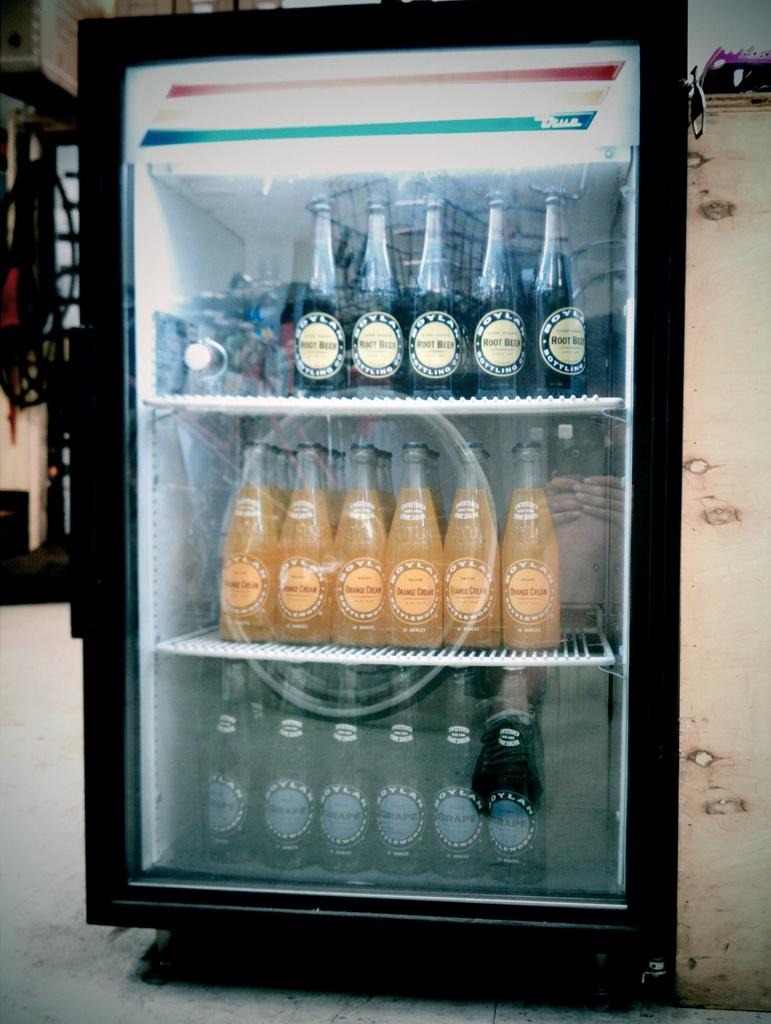handle: (65, 353, 101, 613)
